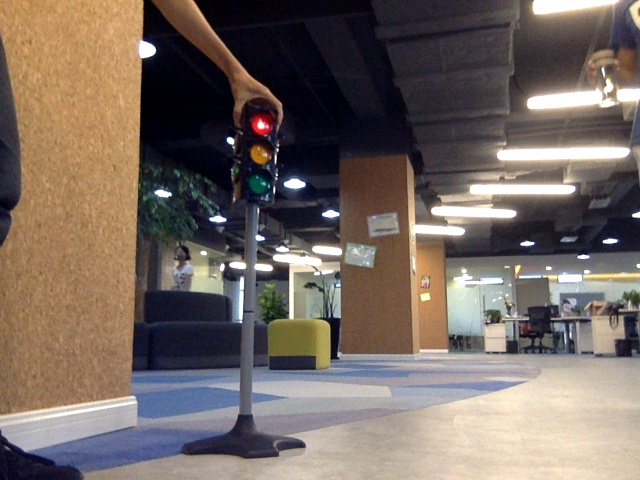red: (243, 112, 271, 194)
